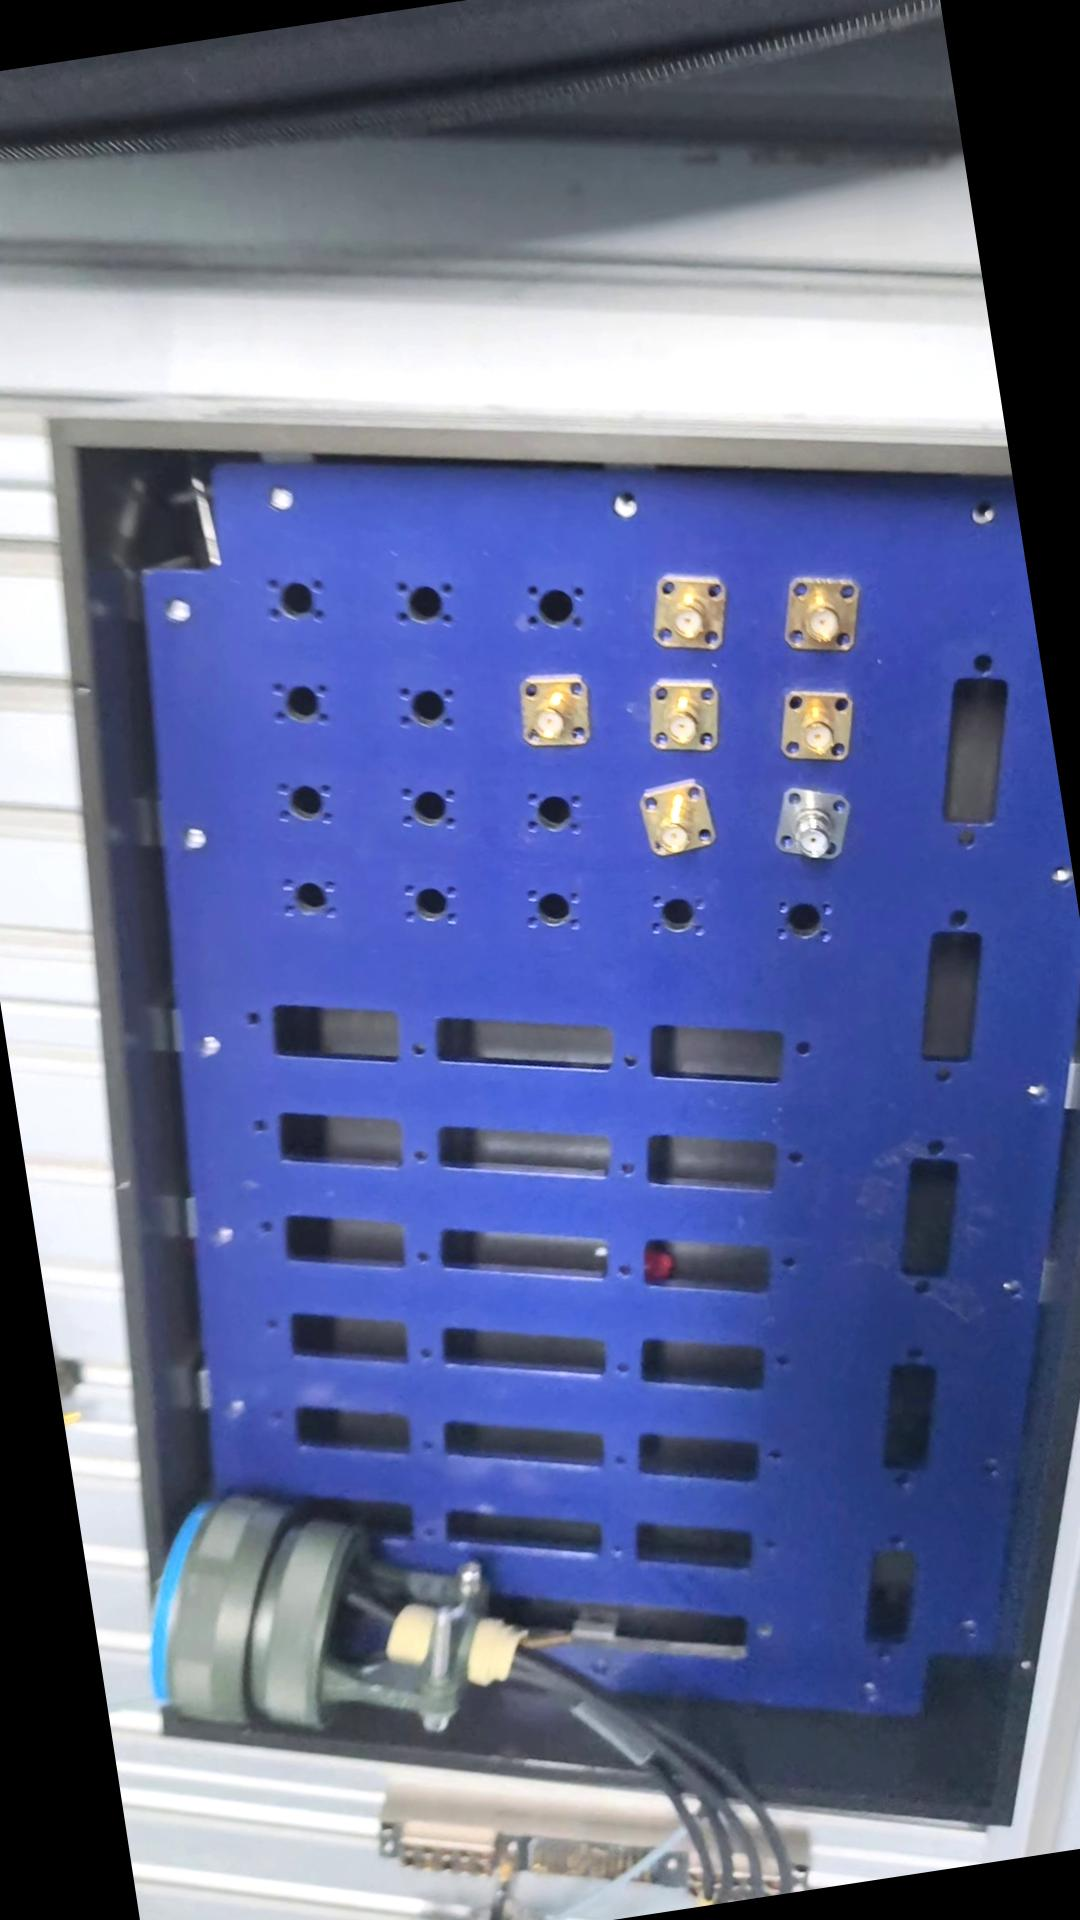SMA: (767, 564, 873, 658), (636, 567, 737, 658), (506, 666, 593, 760), (767, 686, 860, 769), (630, 775, 717, 862), (767, 779, 858, 862), (640, 675, 728, 756)
